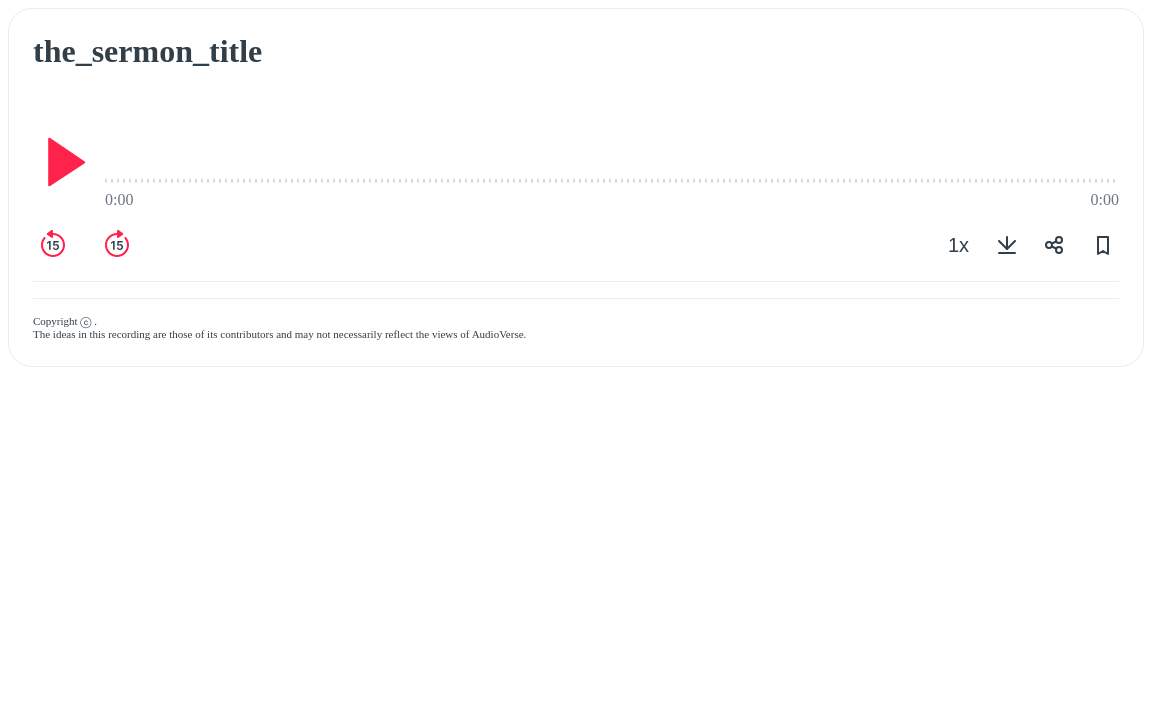
Test: sermon detail page › has embed input
Click the button named "share".
click(1055, 245)  # box left=1039, top=229, right=1071, bottom=261
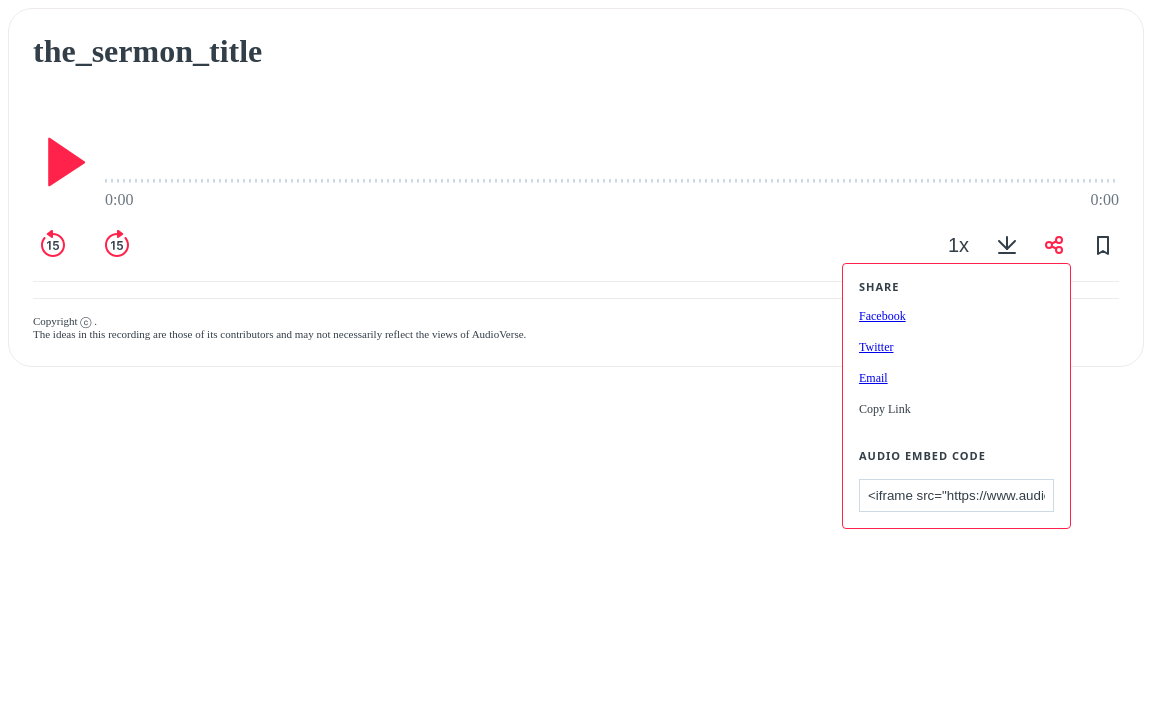
Check: the heading "Audio Embed Code" is shown, box left=859, top=448, right=986, bottom=463
